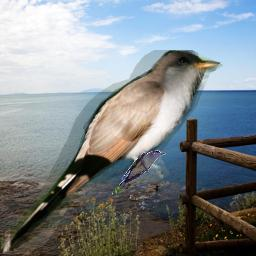Cuckoo: (1, 50, 223, 254), (112, 150, 166, 196)
